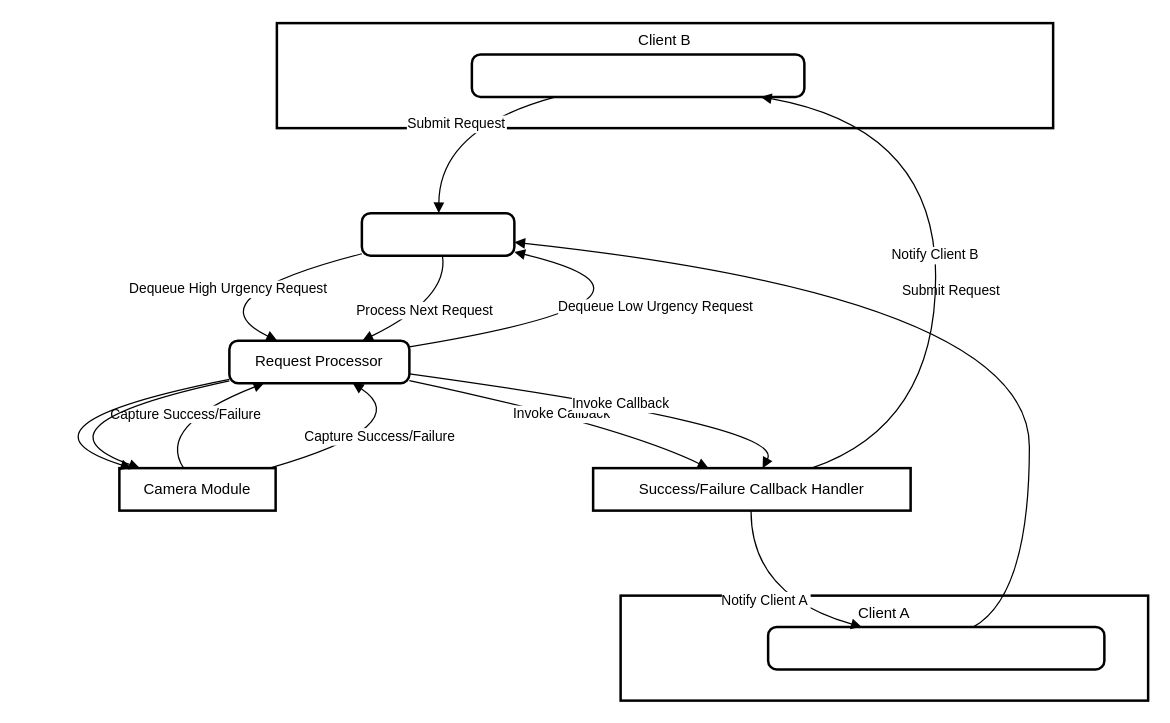
Some shapes in this 1170 by 723 pixel diagram are drawn without their labels. The shapes that lost their labels are listed below. From the top down, each one's box as (x1, y1, x2, y2) in pixels, then its label:
(470, 52, 805, 98): Capture Request with Low Urgency
(360, 211, 515, 256): Request Queue
(766, 625, 1105, 670): Capture Request with High Urgency
